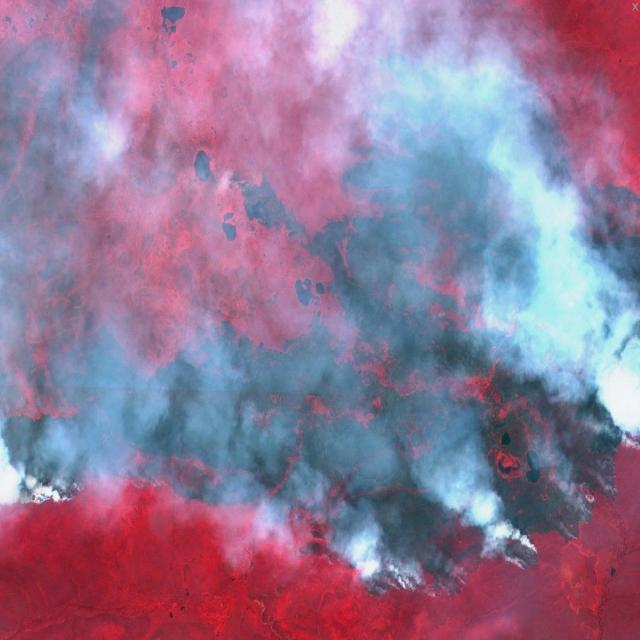fire: (0, 432, 83, 502), (362, 562, 495, 599), (501, 531, 541, 572), (574, 486, 594, 540), (594, 475, 626, 507)
